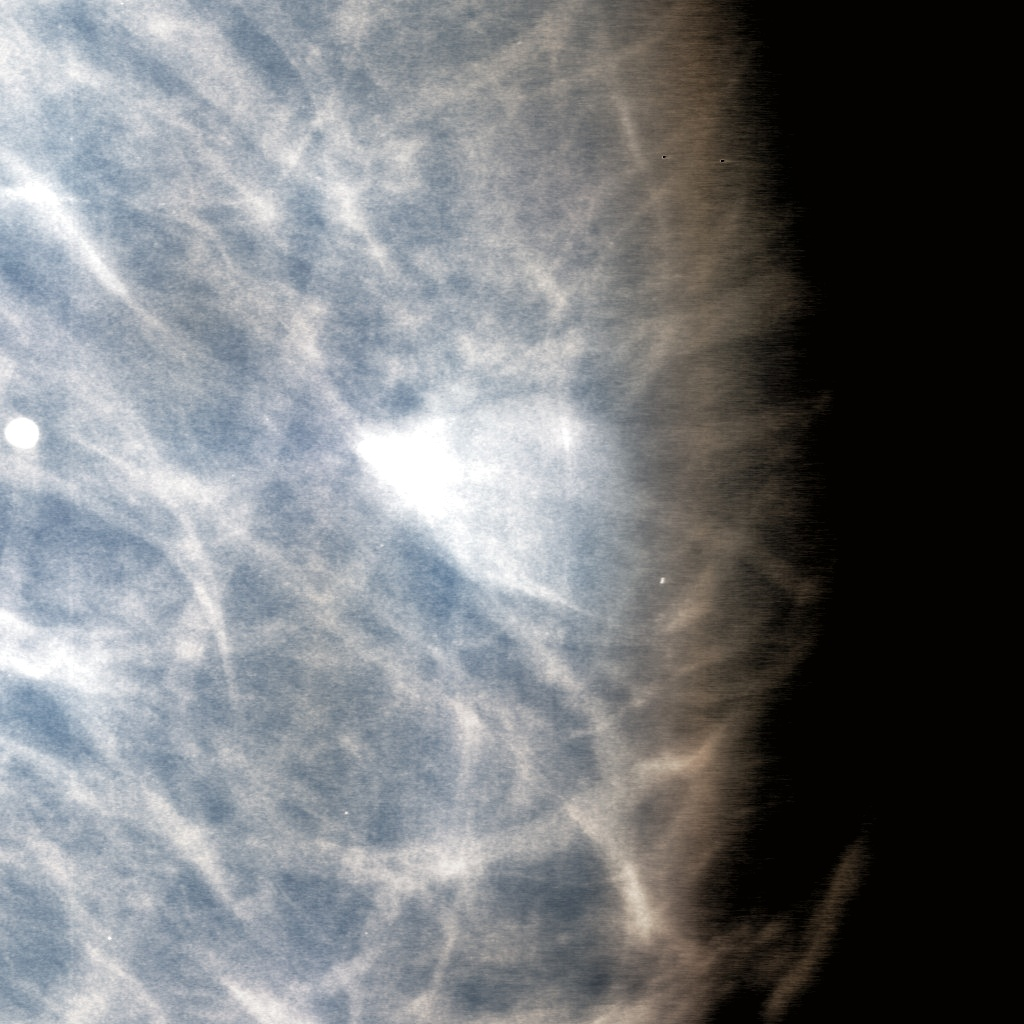tumor: (316, 316, 708, 708)
